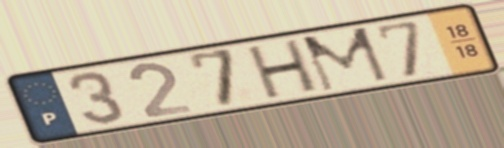2: (125, 61, 198, 120)
3: (67, 68, 128, 127)
7: (182, 47, 243, 111), (371, 17, 426, 80)
H: (245, 36, 322, 102)
M: (297, 24, 393, 95)
